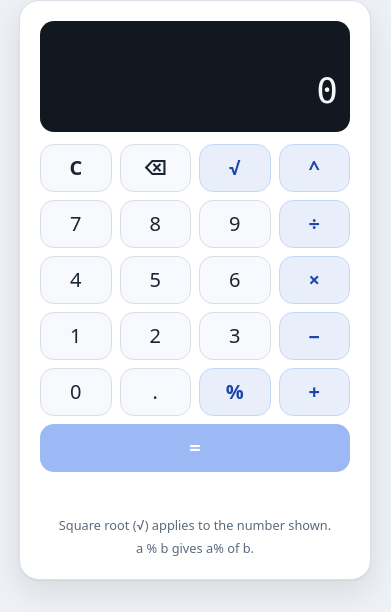
Test case: Calculator input constraints › disables equals until the expression is complete
Check: the button named "Equals" is disabled, box x1=40 y1=424 x2=350 y2=472
Step 1. Click the button named "One" → point(76, 336), box x1=40 y1=312 x2=112 y2=360
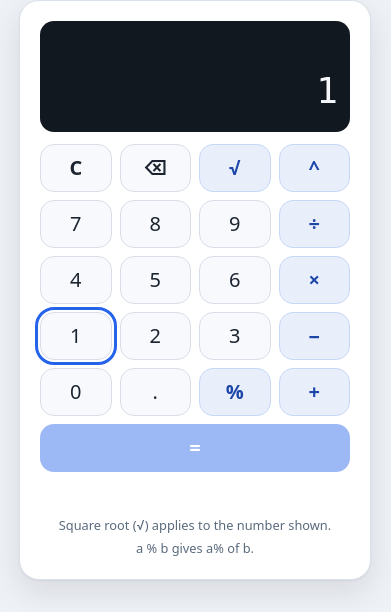
Step 2. Click the button named "Add" → point(314, 392), box x1=278 y1=368 x2=350 y2=416
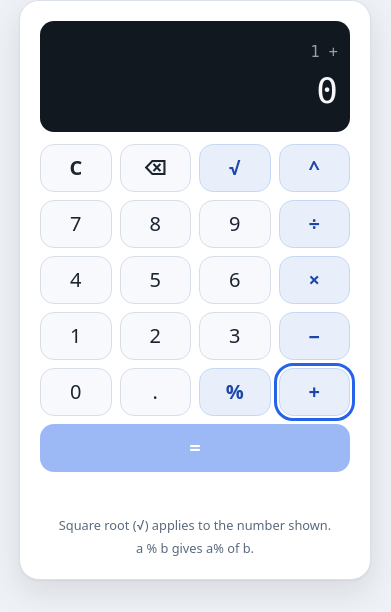
Check: the button named "Equals" is disabled, box x1=40 y1=424 x2=350 y2=472
Step 3. Click the button named "Two" → point(155, 336), box x1=120 y1=312 x2=191 y2=360
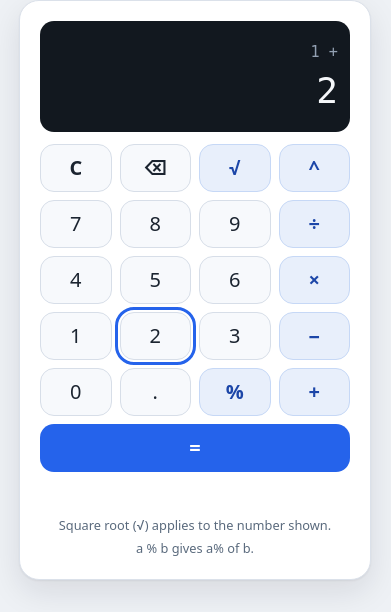
Check: the button named "Equals" is enabled, box x1=40 y1=424 x2=350 y2=472
